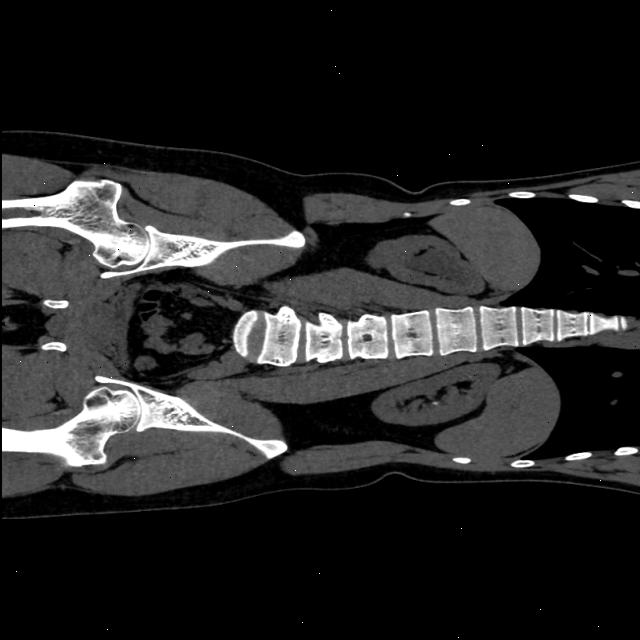kidneystone: (432, 400, 439, 404)
